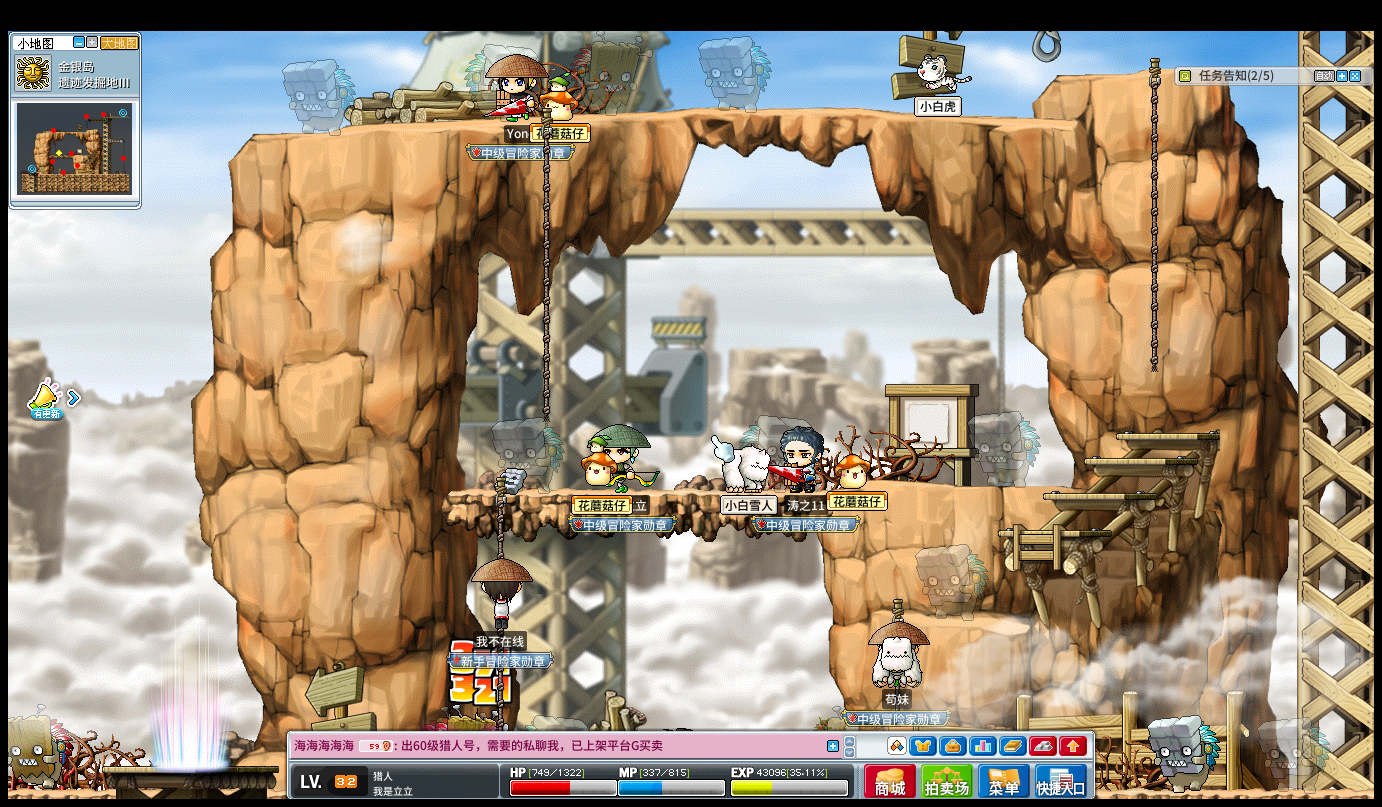floor: (240, 104, 1086, 138), (446, 487, 824, 499), (919, 613, 1031, 634), (889, 482, 1077, 493), (1052, 67, 1169, 81), (1114, 429, 1221, 441), (1078, 456, 1194, 464), (1042, 492, 1154, 500), (997, 528, 1108, 536)
monster: (571, 29, 646, 112), (280, 57, 355, 134), (698, 33, 772, 111), (2, 708, 71, 791), (914, 543, 988, 619), (1148, 716, 1220, 791), (492, 416, 564, 490), (970, 411, 1040, 485), (1269, 720, 1330, 791)
rope: (1146, 55, 1160, 377), (539, 107, 550, 424), (492, 482, 505, 559)
